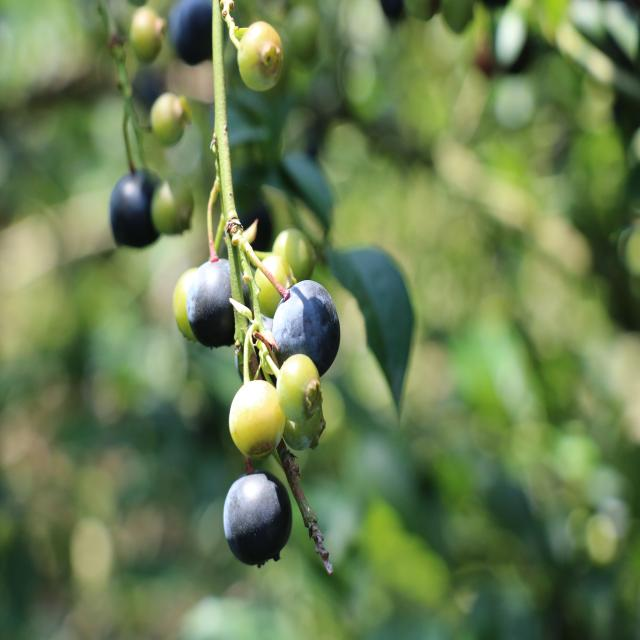blueberry: (181, 250, 254, 358), (267, 279, 342, 380), (222, 469, 295, 565), (107, 165, 172, 256), (160, 0, 232, 69)
blueberry-unripe: (226, 377, 288, 457), (236, 15, 282, 94), (151, 170, 196, 242), (250, 248, 298, 312), (275, 350, 320, 415), (272, 224, 316, 286), (125, 6, 166, 64), (171, 269, 203, 343), (148, 87, 187, 147), (285, 408, 329, 452)
